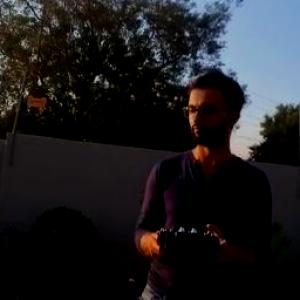follow: (120, 69, 267, 299)
